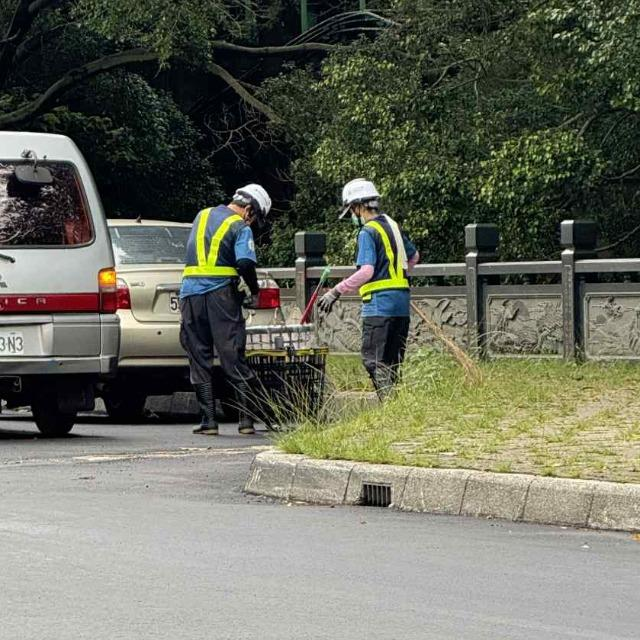Vest: (355, 216, 419, 308), (182, 204, 251, 286)
